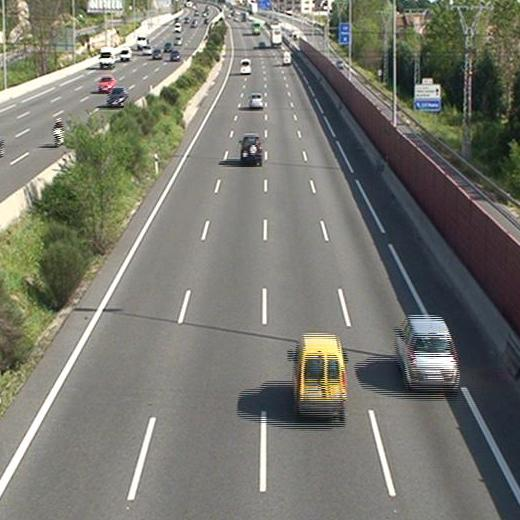car: (397, 317, 458, 389), (240, 135, 262, 163), (249, 92, 263, 108)
truck: (270, 25, 281, 48)
van: (296, 337, 345, 419), (240, 59, 252, 74), (281, 50, 290, 64)
